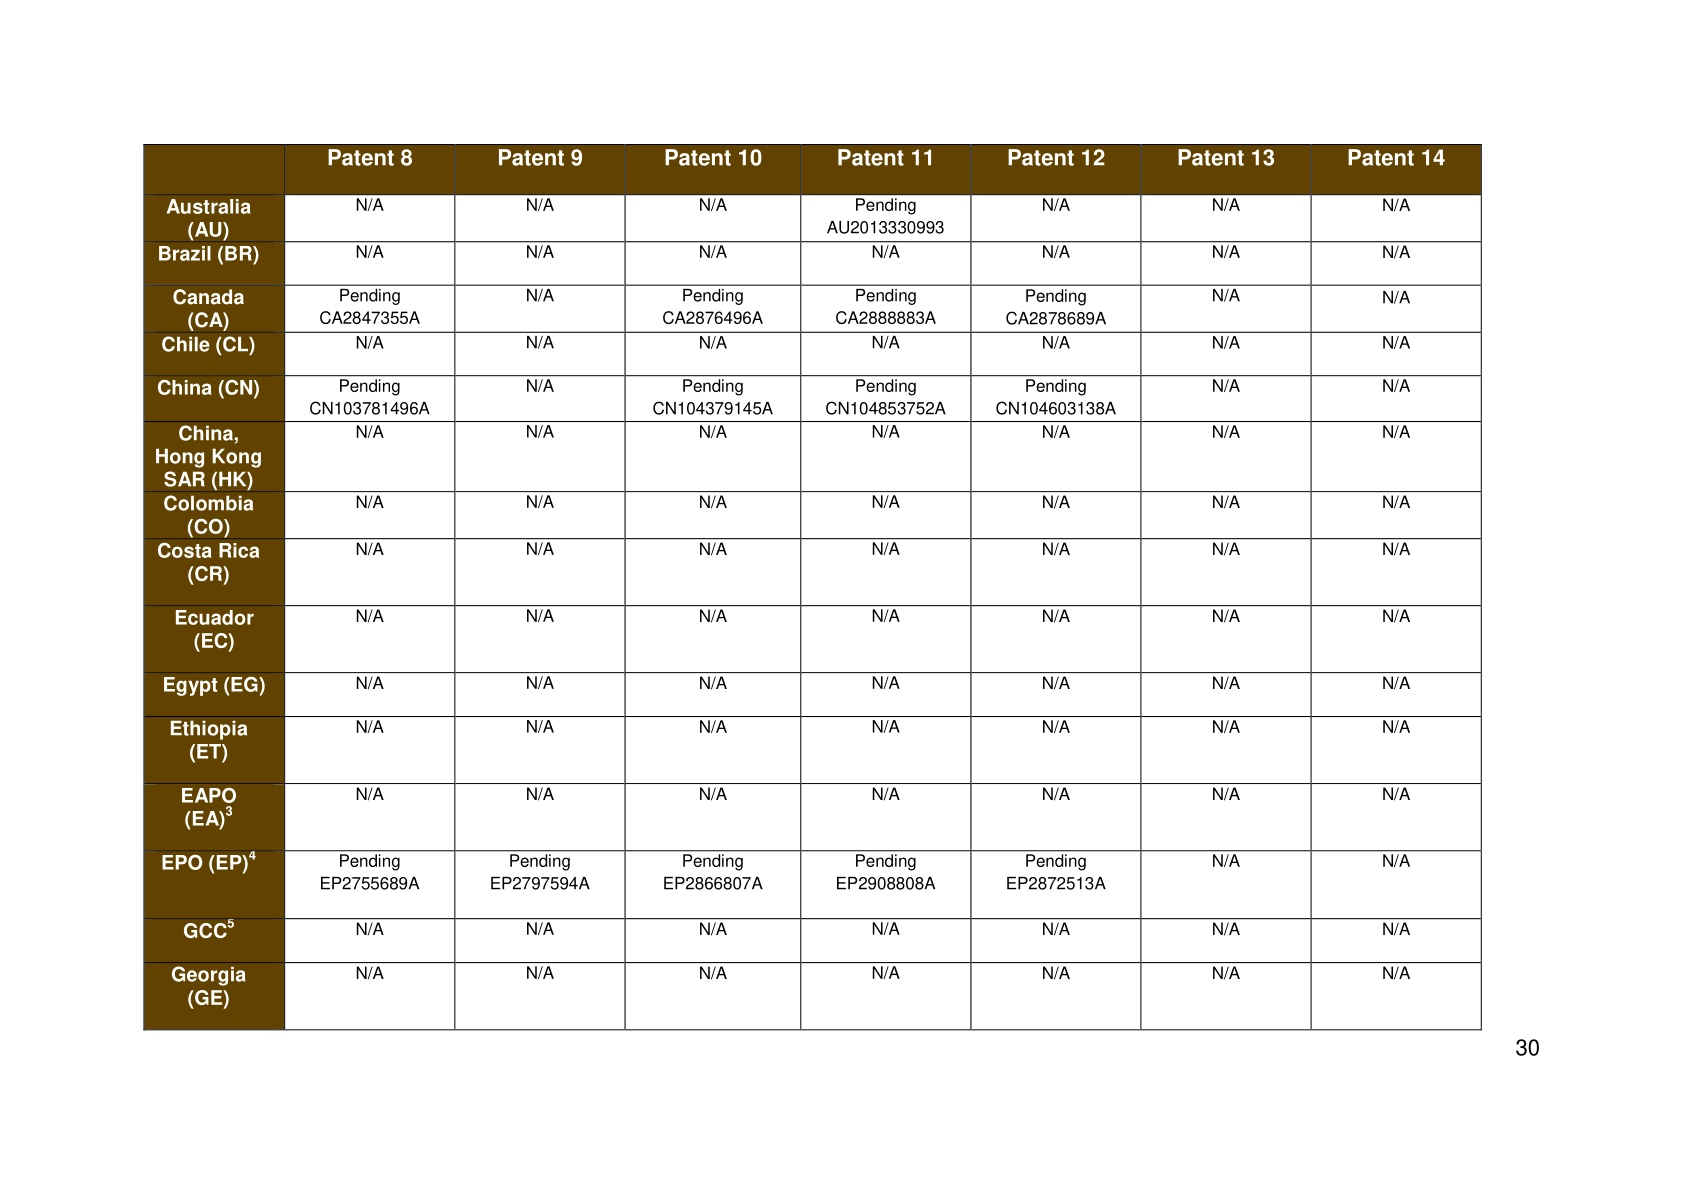full_lined: (142, 144, 1482, 1031)
